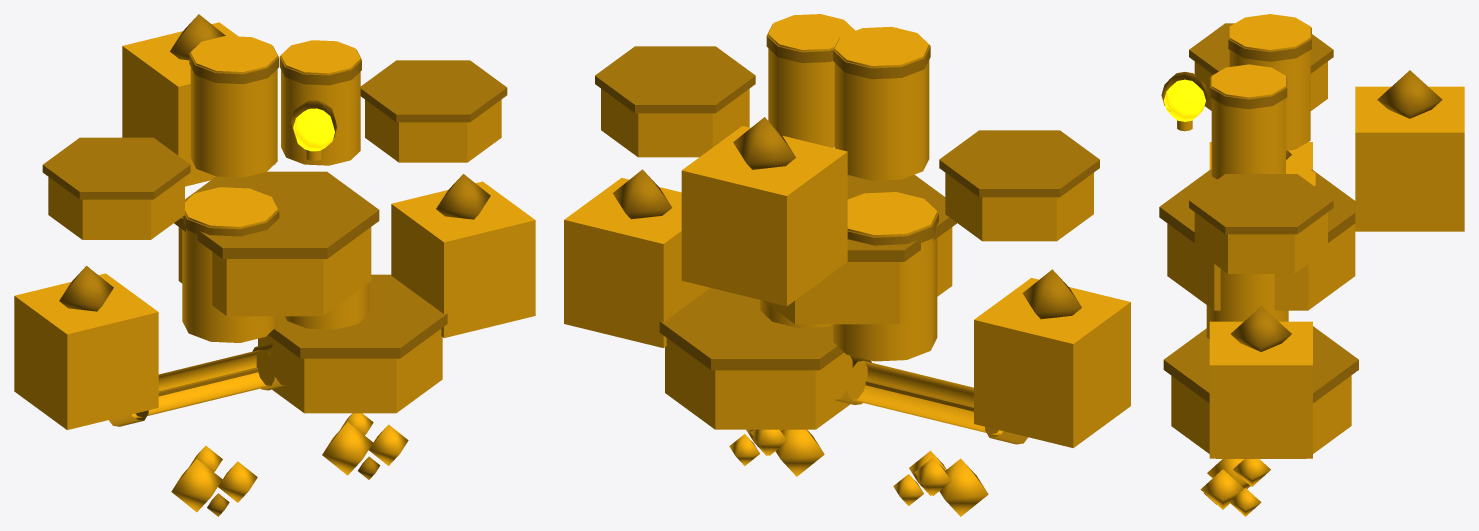
The model's file is golem_027.glb.
The picture shows the model from 3 angles, left to right: view 1: azimuth 30°, elevation 25°; view 2: azimuth 150°, elevation 25°; view 3: azimuth 270°, elevation 25°; orthographic projection. The views are drawn at different scales.
Visible parts, largest first — view 1: Body, Detail, Glow; view 2: Body, Detail; view 3: Body, Detail, Glow.
Part boxes in pixels (left/top/right/bottom): Body: left=14, top=22, right=535, bottom=512; Detail: left=42, top=14, right=507, bottom=516; Glow: left=293, top=108, right=334, bottom=151; Body: left=564, top=14, right=1130, bottom=516; Detail: left=595, top=24, right=1099, bottom=444; Body: left=1167, top=14, right=1464, bottom=516; Detail: left=1159, top=23, right=1442, bottom=504; Glow: left=1163, top=79, right=1205, bottom=121.
Bounding box in the file's own units: 1.3 × 1.15 × 0.7545.
